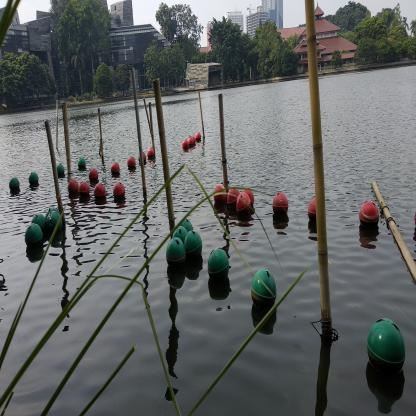green_buoy: (366, 318, 406, 381), (248, 268, 278, 318), (206, 245, 232, 293), (164, 240, 185, 277), (23, 221, 46, 253), (46, 208, 64, 244), (186, 231, 205, 264), (32, 210, 47, 236), (9, 177, 21, 195), (56, 162, 65, 180), (29, 172, 39, 188), (78, 156, 86, 172)
red_buoy: (359, 198, 381, 235), (271, 190, 290, 221), (212, 181, 225, 214), (237, 191, 251, 220), (227, 186, 238, 217), (307, 192, 315, 227), (95, 186, 109, 204), (114, 184, 127, 203), (67, 180, 78, 202), (79, 182, 91, 202), (110, 160, 121, 178), (127, 154, 137, 173), (146, 145, 155, 162), (89, 168, 99, 183), (194, 132, 203, 144), (181, 138, 188, 152), (188, 136, 194, 150)
